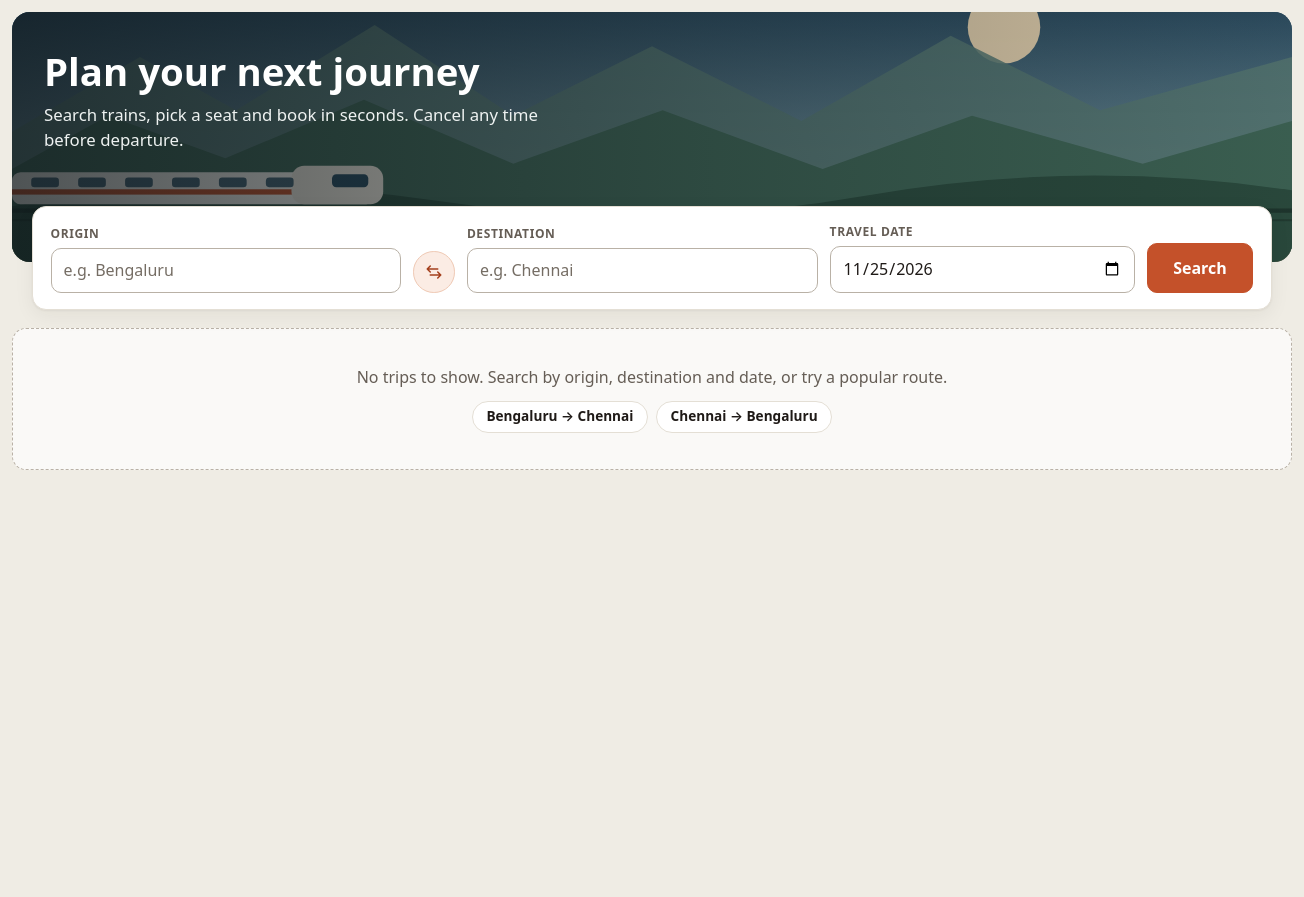
Scenario: booking from the results (FR-05) › a seat conflict shows the server message and no confirmation
Type "Bengaluru" into the field labelled "Origin" at (226, 270), box [51,248,401,293]
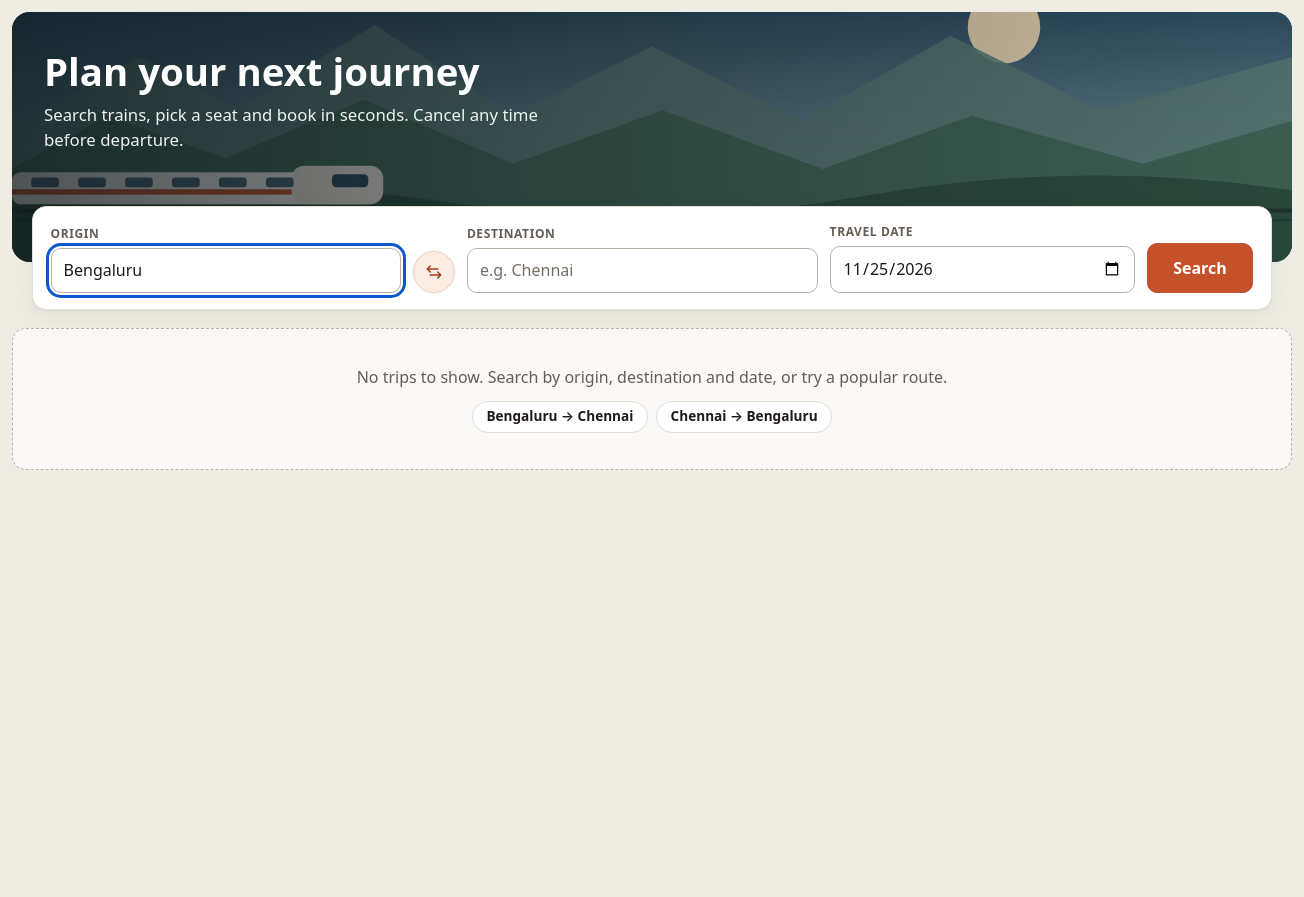
Type "Chennai" into the field labelled "Destination" at (642, 270), box [467,248,818,293]
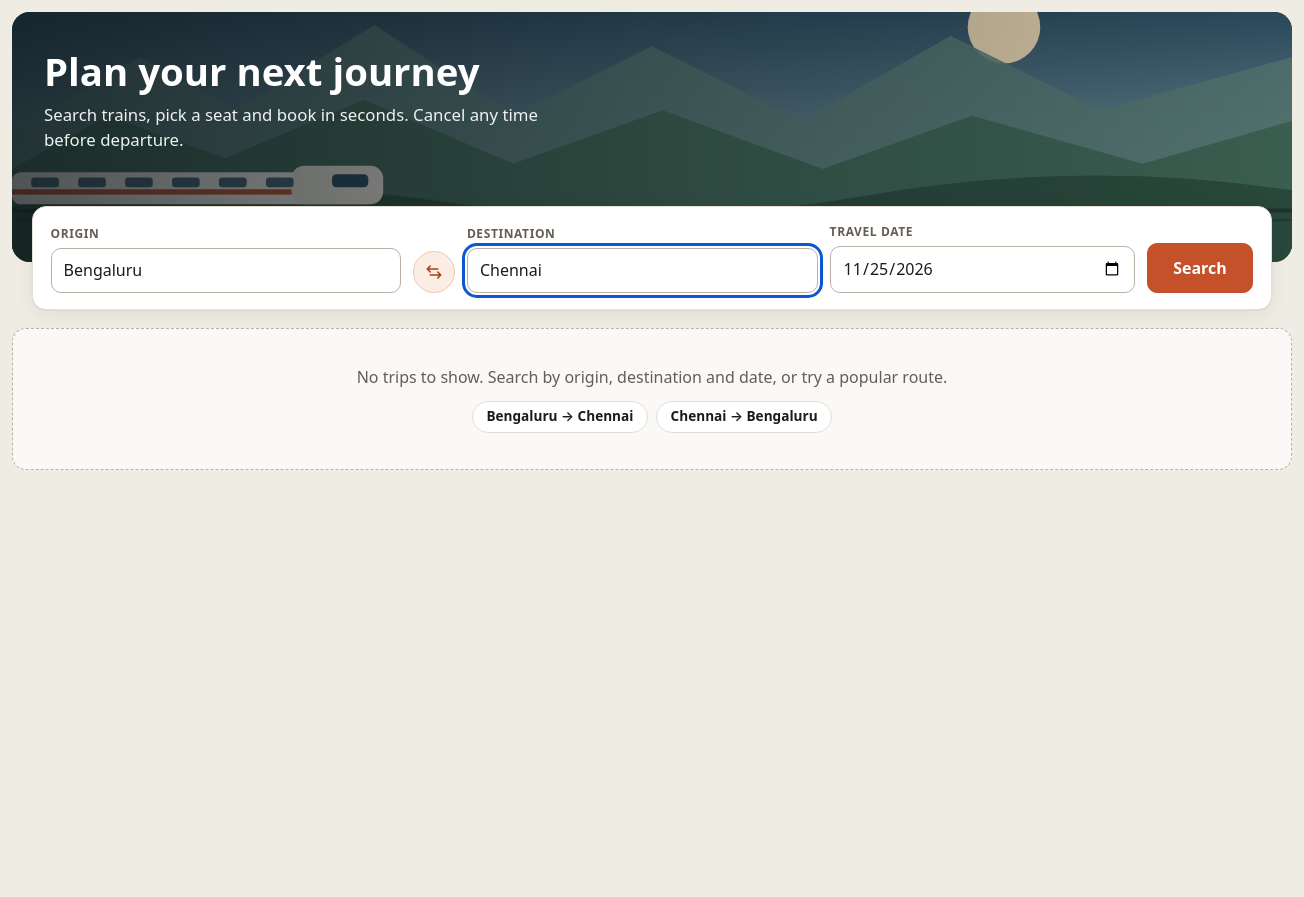
Click the button "Search" at (1200, 268), box [1147,243,1253,293]
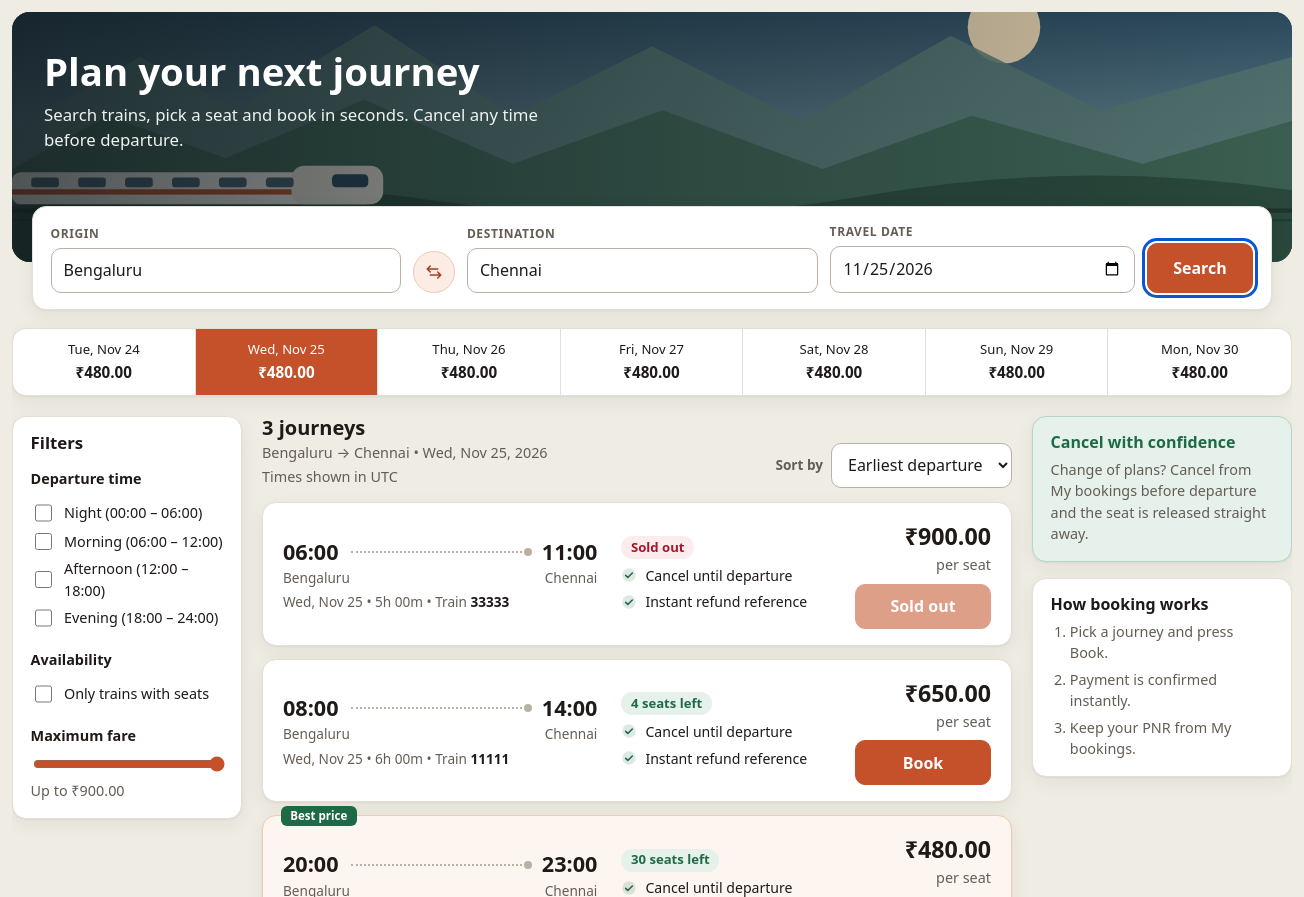
Expected: the heading "3 journeys" is shown, [262,414,365,441]
Click the button with aria-label "Book train 11111" at (923, 763), box [855,740,991,785]
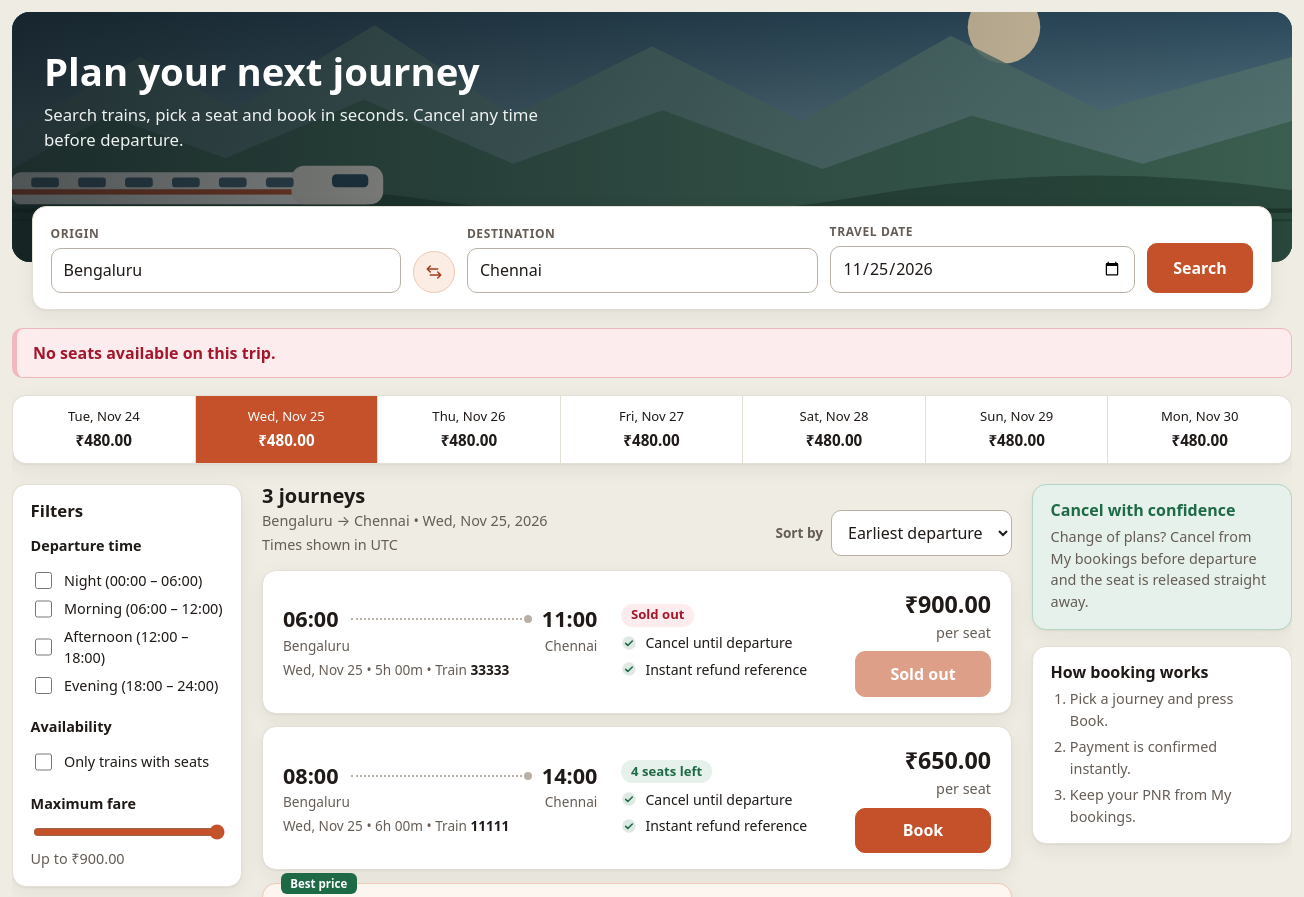
Expected: the message reads "No seats available on this trip.", [33,342,276,364]
